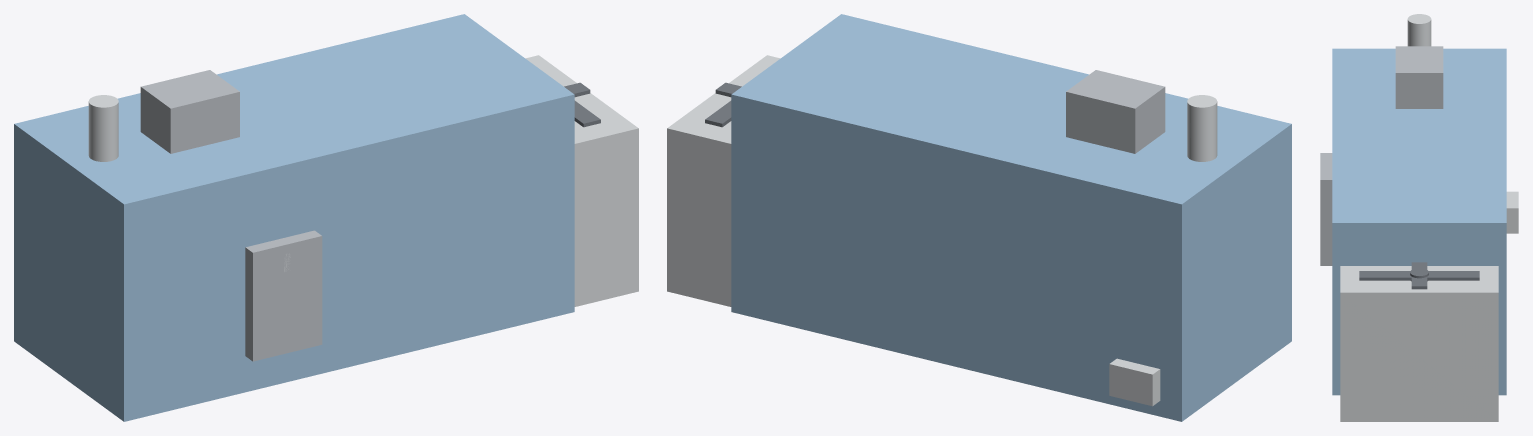
The model's file is standby_generator.f37bf7611883.glb.
3 views of the same model, side by side, from view 1: azimuth 30°, elevation 25°; view 2: azimuth 150°, elevation 25°; view 3: azimuth 270°, elevation 25° (orthographic). The views are drawn at different scales.
Parts seen in each view (by area): view 1: Enclosure, Radiator, ControlPanel, Silencer, ExhaustStack, RadiatorFan; view 2: Enclosure, Radiator, Silencer, Battery, ExhaustStack, RadiatorFan; view 3: Enclosure, Radiator, Silencer, RadiatorFan, ControlPanel, ExhaustStack, Battery.
Part boxes in pixels (x1,y1,x2,y2): Enclosure: (14, 14, 574, 421); Radiator: (525, 55, 638, 306); ControlPanel: (245, 230, 322, 361); Silencer: (140, 70, 239, 153); ExhaustStack: (88, 95, 118, 161); RadiatorFan: (564, 82, 600, 127); Enclosure: (731, 14, 1291, 421); Radiator: (667, 55, 780, 306); Silencer: (1066, 70, 1165, 153); Battery: (1109, 358, 1160, 406); ExhaustStack: (1187, 95, 1217, 161); RadiatorFan: (705, 82, 741, 127); Enclosure: (1332, 48, 1506, 395); Radiator: (1340, 266, 1498, 421); Silencer: (1395, 46, 1443, 108); RadiatorFan: (1359, 262, 1479, 289); ControlPanel: (1320, 153, 1332, 265); ExhaustStack: (1407, 14, 1431, 46); Battery: (1506, 191, 1518, 233).
Size of what is drawn, in the model's own units: 6 by 3 by 2.5.
